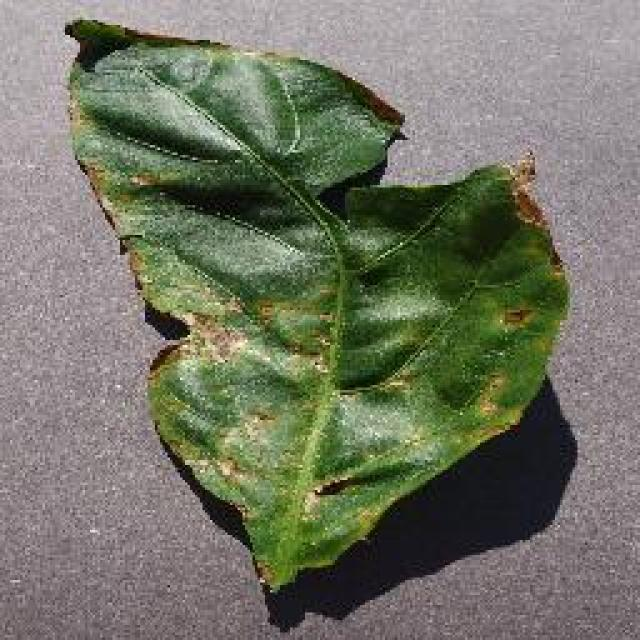Chilli_Bacterial_Spot: (60, 15, 572, 595), (253, 290, 335, 360), (502, 145, 550, 230), (470, 368, 510, 422), (510, 185, 548, 230), (505, 148, 537, 190), (308, 472, 352, 500), (240, 405, 278, 437), (210, 453, 245, 485), (497, 302, 535, 330), (252, 295, 278, 325), (125, 168, 157, 192)
